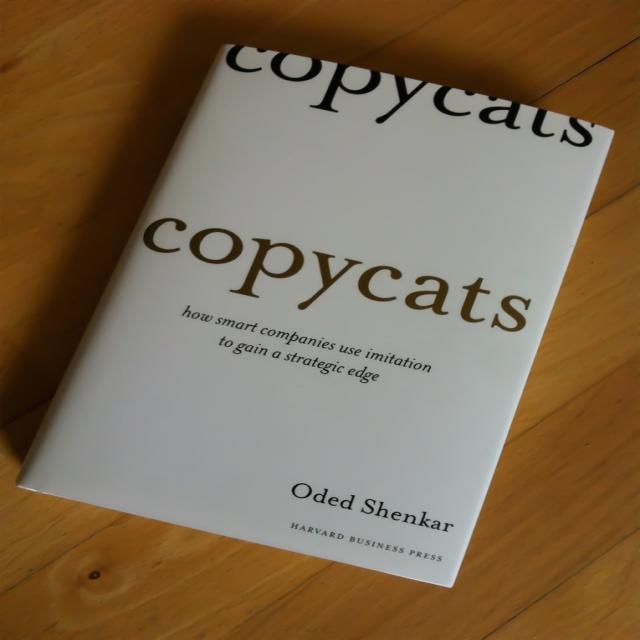book: (16, 40, 629, 591)
